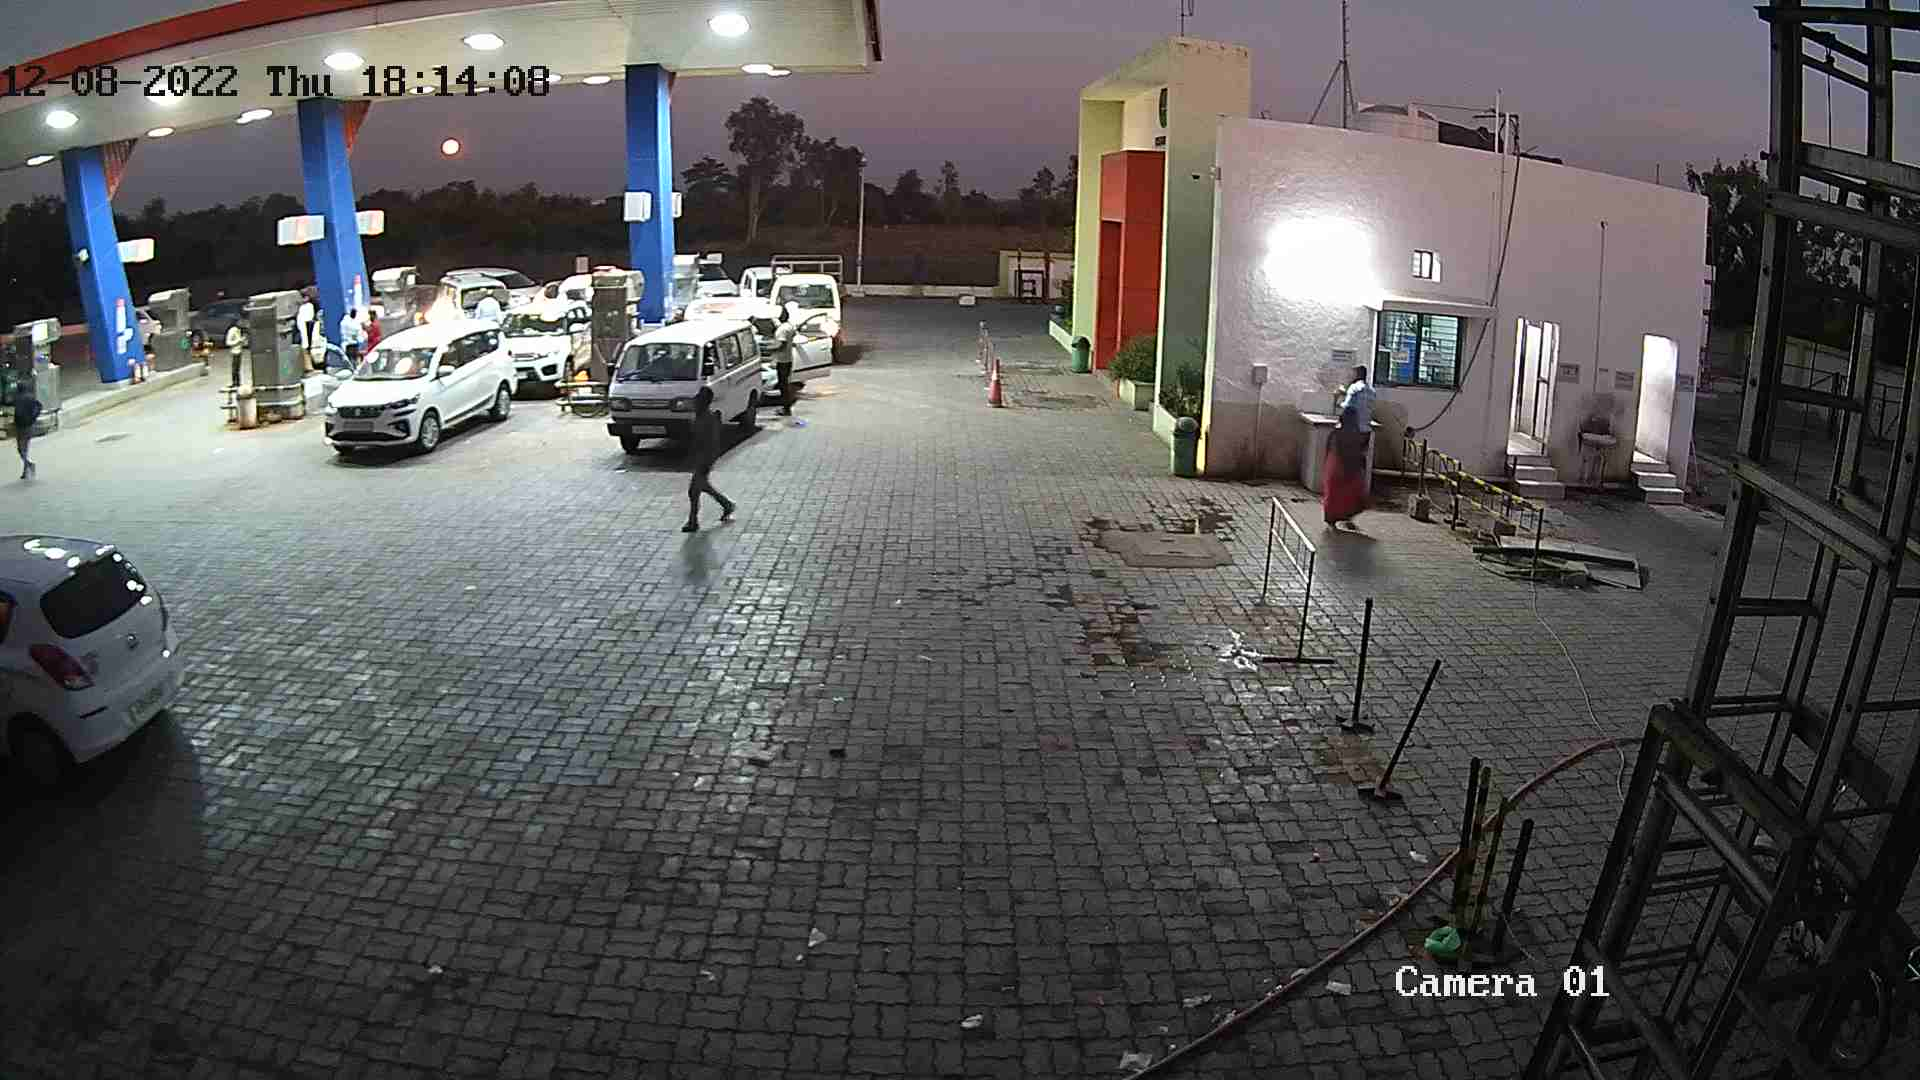Auto: (3, 320, 36, 440)
Car: (0, 497, 198, 876), (302, 293, 535, 473), (599, 301, 779, 469), (670, 285, 844, 411), (475, 281, 599, 406), (415, 260, 512, 344), (450, 260, 551, 314), (181, 286, 261, 353), (280, 281, 332, 377), (553, 257, 624, 328), (673, 248, 746, 313), (727, 255, 799, 305), (128, 287, 167, 357), (357, 278, 405, 335), (402, 274, 446, 332), (306, 302, 336, 382), (533, 266, 568, 330)
HMV: (756, 241, 855, 375)
